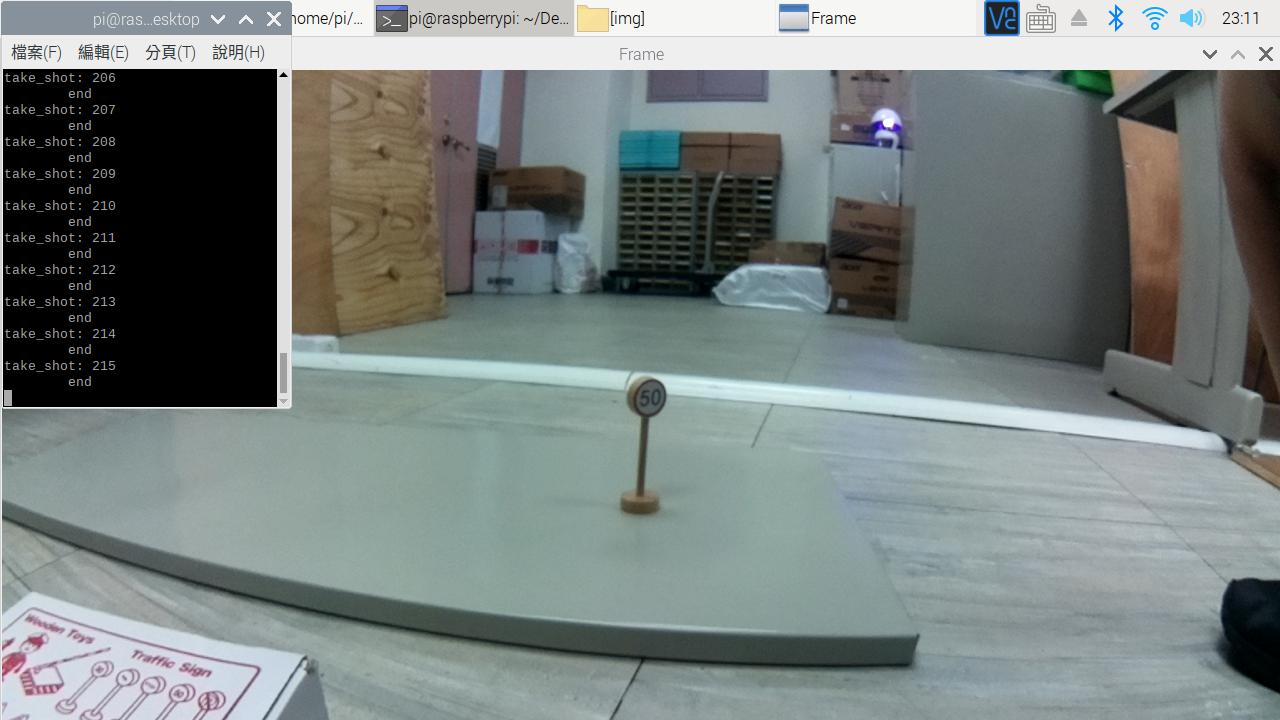Speed50: (594, 361, 683, 449)
